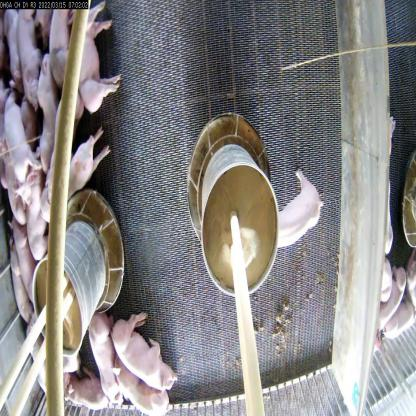Pig: (64, 4, 124, 119), (42, 128, 113, 201), (267, 167, 323, 257), (111, 314, 175, 390), (33, 50, 66, 166), (83, 316, 124, 409), (113, 356, 171, 416), (0, 88, 33, 182), (18, 171, 46, 254)
